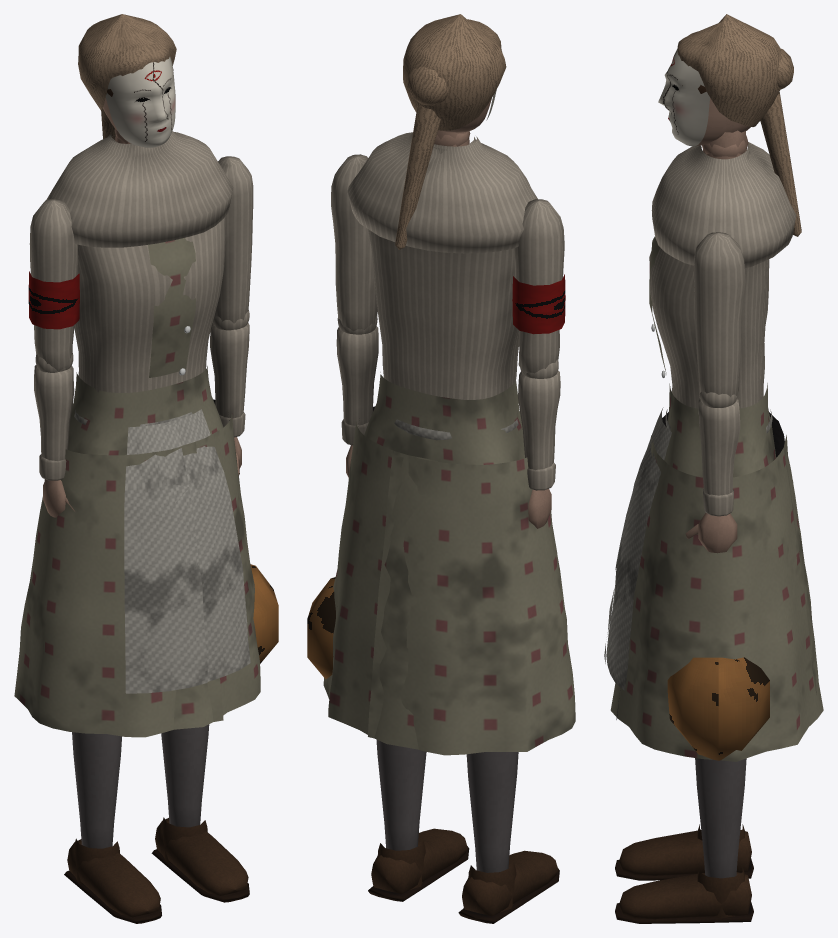
Rendered from char_marked_woman.glb.
The picture shows the model from 3 angles, left to right: view 1: azimuth 30°, elevation 25°; view 2: azimuth 150°, elevation 25°; view 3: azimuth 270°, elevation 25°; orthographic projection. The views are drawn at different scales.
Visible parts, largest first — view 1: SkirtR, Spine, SkirtL, Head, UpperArmR, Hips, FootL, FootR, ShinR, UpperArmL, ShinL, ForearmR (+3 smaller); view 2: SkirtR, Spine, SkirtL, Head, Hips, UpperArmR, UpperArmL, ShinR, FootR, FootL, ShinL, ForearmR (+3 smaller); view 3: SkirtL, Spine, Head, HandL, UpperArmL, FootL, ShinL, Hips, ForearmL, FootR, SkirtR, Neck.
Part boxes in pixels (x1,y1,x2,y2): SkirtR: (14, 423, 223, 737); Spine: (46, 131, 233, 392); SkirtL: (153, 399, 260, 729); Head: (78, 14, 176, 147); UpperArmR: (28, 199, 79, 371); Hips: (68, 366, 223, 455); FootL: (151, 817, 249, 902); FootR: (64, 838, 161, 923); ShinR: (72, 732, 121, 848); UpperArmL: (213, 156, 253, 323); ShinL: (161, 724, 209, 827); ForearmR: (34, 353, 74, 480); SkirtR: (368, 450, 575, 755); Spine: (347, 132, 537, 399); SkirtL: (323, 406, 437, 749); Head: (395, 14, 506, 249); Hips: (364, 372, 524, 464); UpperArmR: (512, 199, 565, 373); UpperArmL: (331, 154, 377, 331); ShinR: (466, 752, 518, 872); FootR: (458, 850, 559, 923); FootL: (368, 828, 469, 901); ShinL: (376, 739, 426, 850); ForearmR: (518, 359, 560, 490); SkirtL: (606, 412, 823, 761); Spine: (649, 142, 796, 408); Head: (658, 14, 801, 236); HandL: (667, 513, 769, 760); UpperArmL: (693, 232, 745, 397); FootL: (615, 867, 753, 923); ShinL: (695, 758, 746, 878); Hips: (664, 383, 776, 477); ForearmL: (698, 390, 740, 516); FootR: (615, 824, 753, 880); SkirtR: (604, 407, 818, 719); Neck: (702, 135, 748, 159).
Bounding box in the file's own units: 0.5202 × 1.77 × 0.4028.
Materials: 14 (14 with a texture image).
